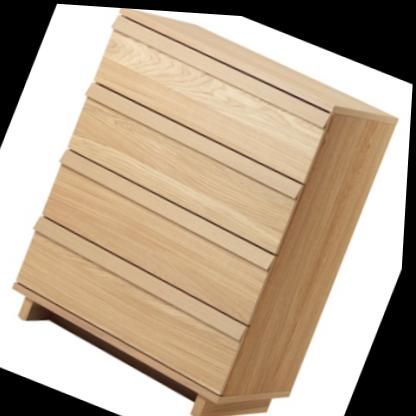Cabinet: (0, 0, 413, 416)
